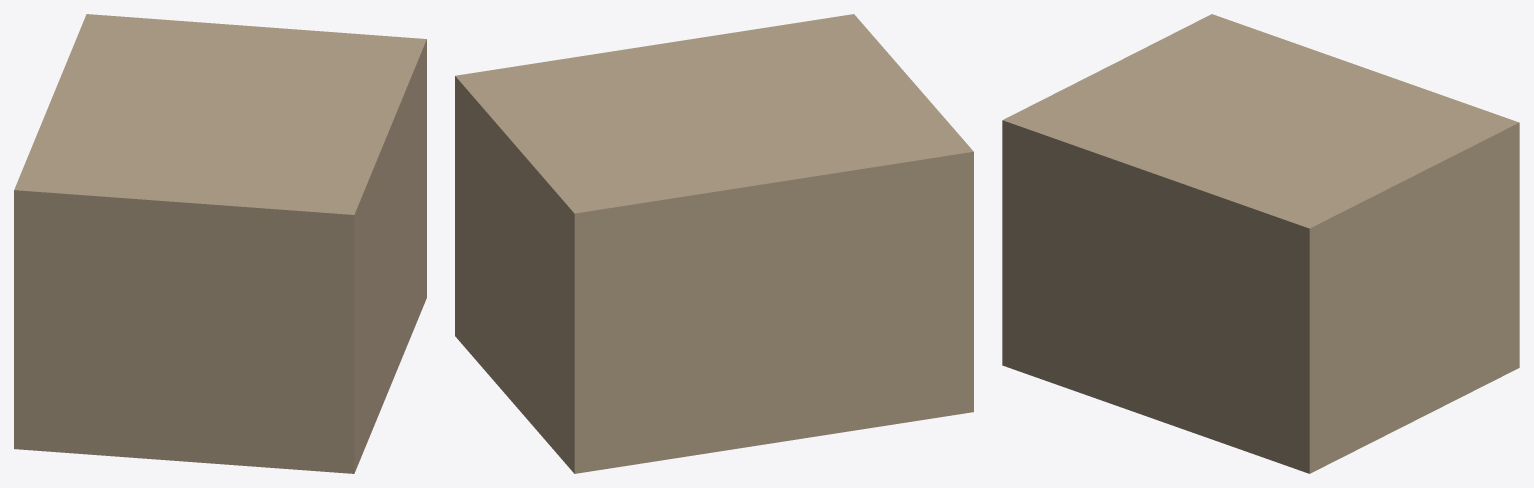
The model's file is bld_100469820.dae.
3 views of the same model, side by side, from view 1: azimuth 30°, elevation 25°; view 2: azimuth 150°, elevation 25°; view 3: azimuth 270°, elevation 25° (orthographic). The views are drawn at different scales.
Visible parts, largest first — view 1: bld_100469820; view 2: bld_100469820; view 3: bld_100469820.
Boxes of the visible parts, x1,y1,x2,y2 form: bld_100469820: (14, 14, 426, 473); bld_100469820: (455, 14, 973, 473); bld_100469820: (1002, 14, 1519, 473).
Size of the model in its own units: 15.01 by 15.28 by 8.
